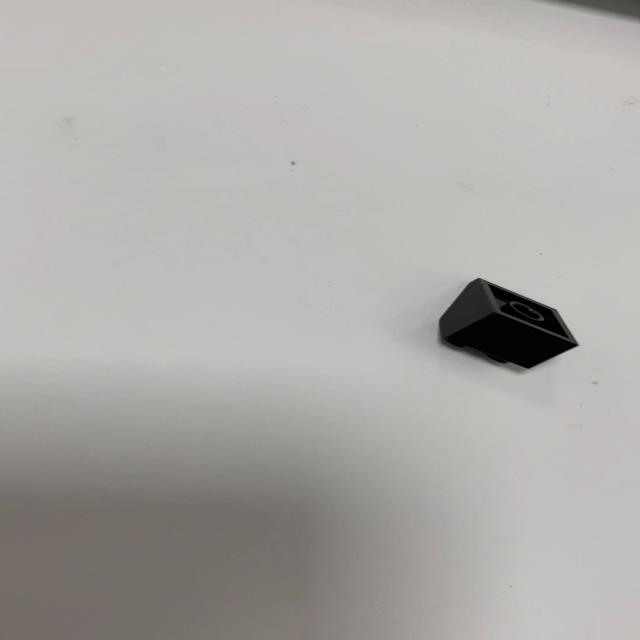P2x2x1: (435, 275, 587, 373)
